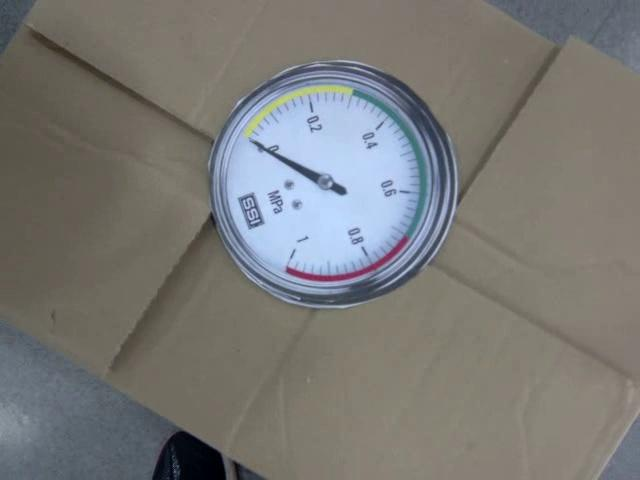Dashboard: (207, 60, 457, 305)
ssi: (234, 190, 263, 228)
